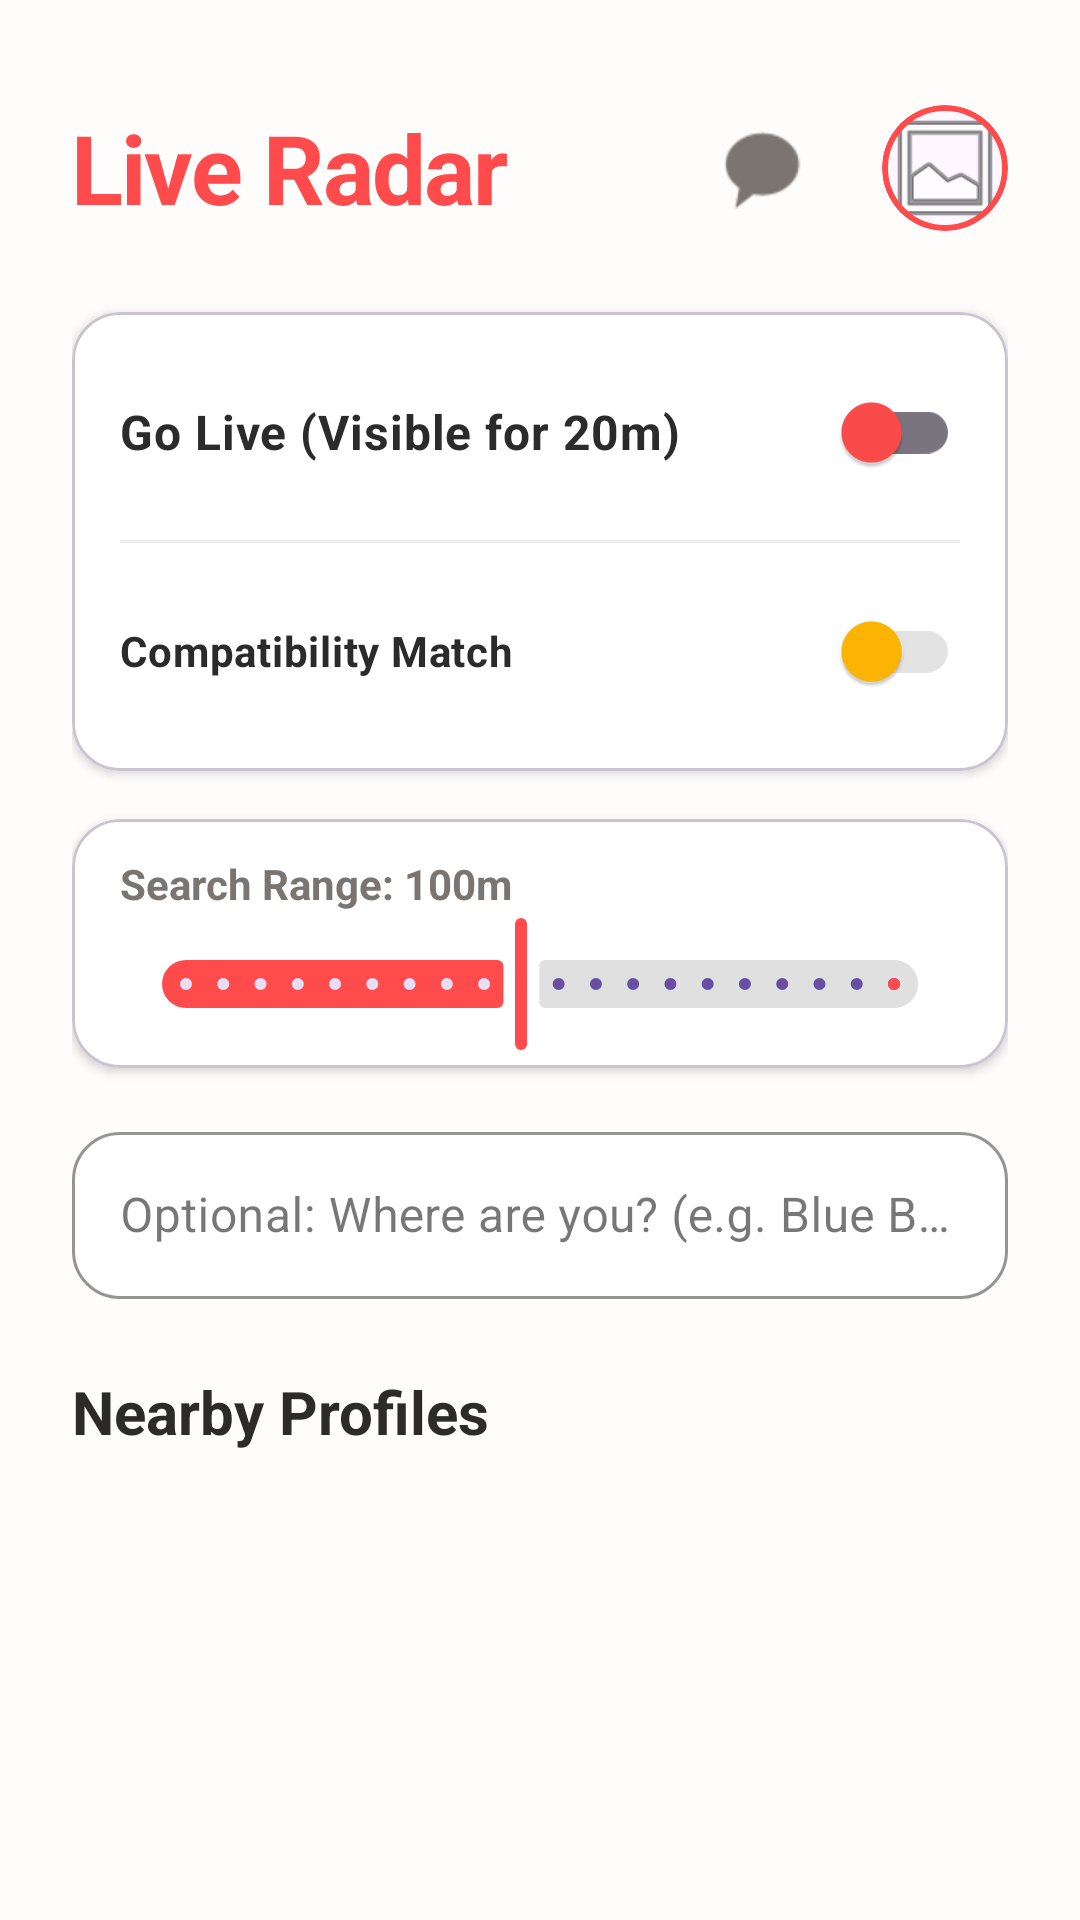

Icons on this 1080x1920 Android screen, each with its box as (x1, y1, x2, y2):
gallery: (882, 105, 1008, 231)
Open Matches Inbox: (725, 132, 800, 208)
